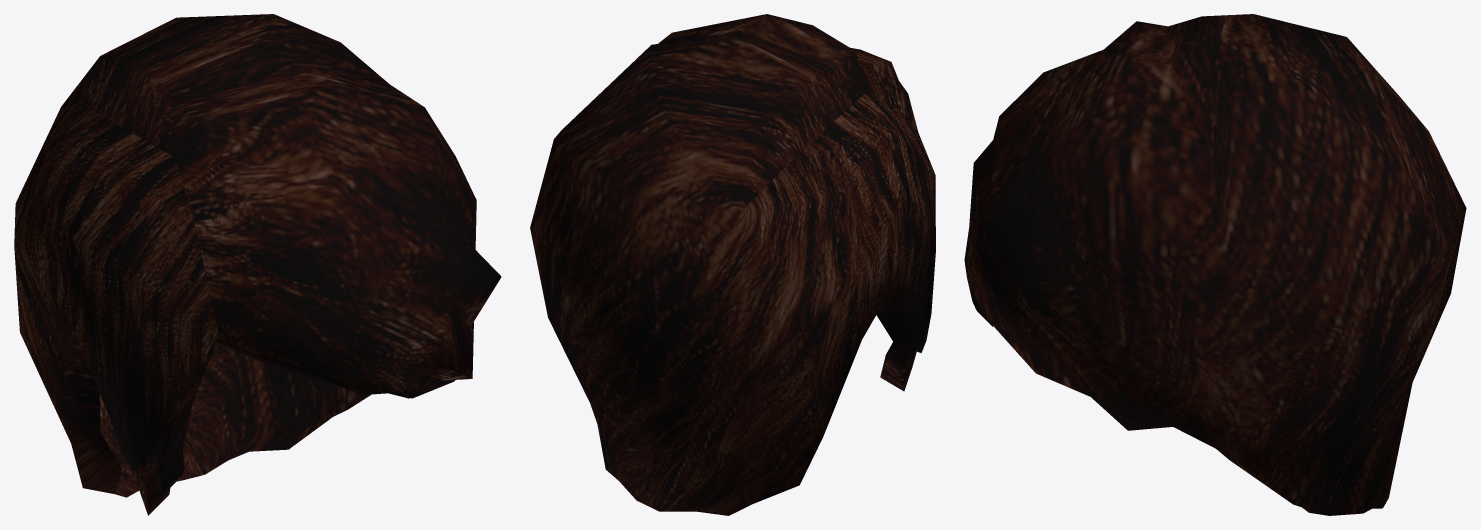
File: pelo_03.FBX
3 views of the same model, side by side, from view 1: azimuth 30°, elevation 25°; view 2: azimuth 150°, elevation 25°; view 3: azimuth 270°, elevation 25° (orthographic). The views are drawn at different scales.
Visible parts, largest first — view 1: pelo_03; view 2: pelo_03; view 3: pelo_03.
Part boxes in pixels (x1,y1,x2,y2): pelo_03: [14, 14, 501, 515]; pelo_03: [530, 14, 935, 515]; pelo_03: [964, 14, 1466, 515].
Bounding box in the file's own units: 18 × 22.17 × 21.82.
